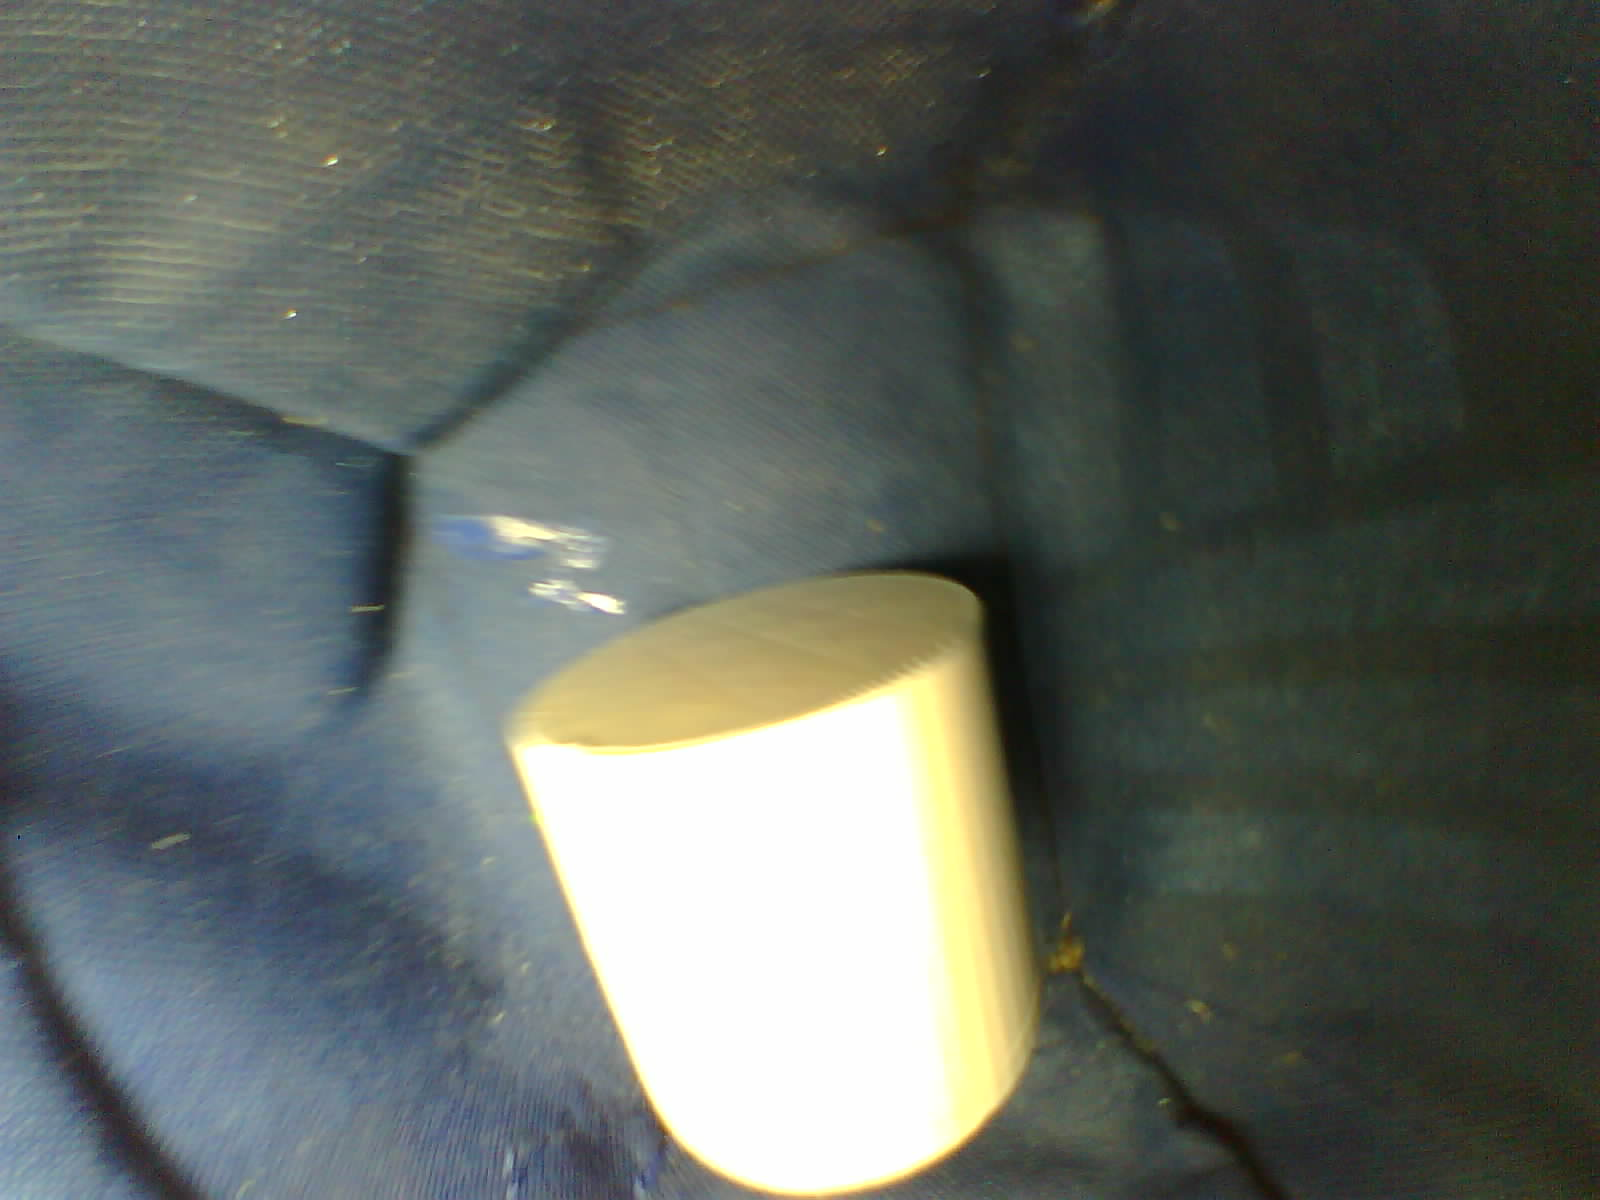cylinder-hard: (490, 555, 1065, 1200)
